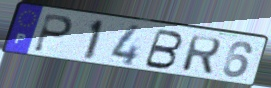1: (81, 18, 105, 62)
4: (109, 23, 141, 68)
6: (222, 41, 256, 80)
B: (141, 28, 185, 71)
P: (32, 12, 76, 54)
R: (180, 34, 223, 76)
